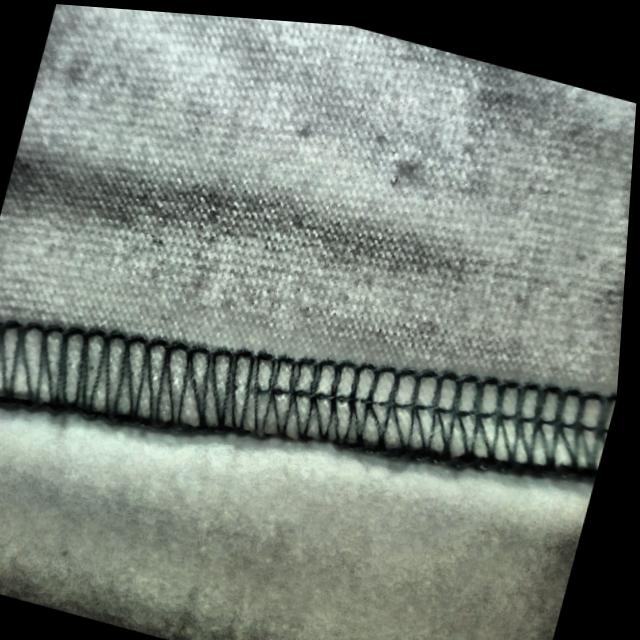Stitch: (65, 268, 500, 510)
